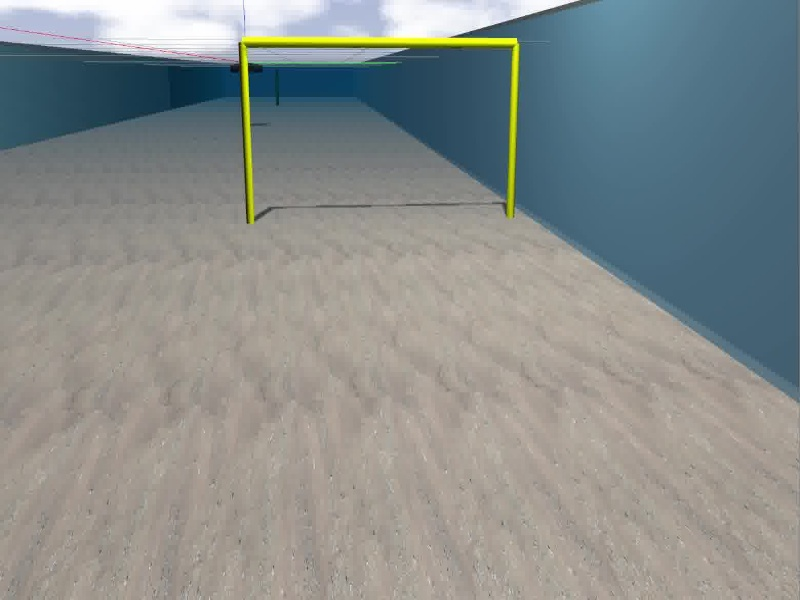gate: (238, 36, 520, 227)
